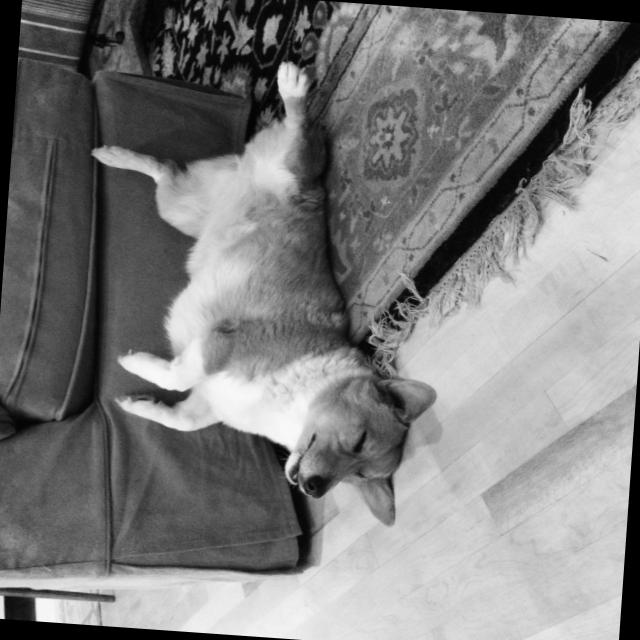laying down: (63, 44, 463, 542)
